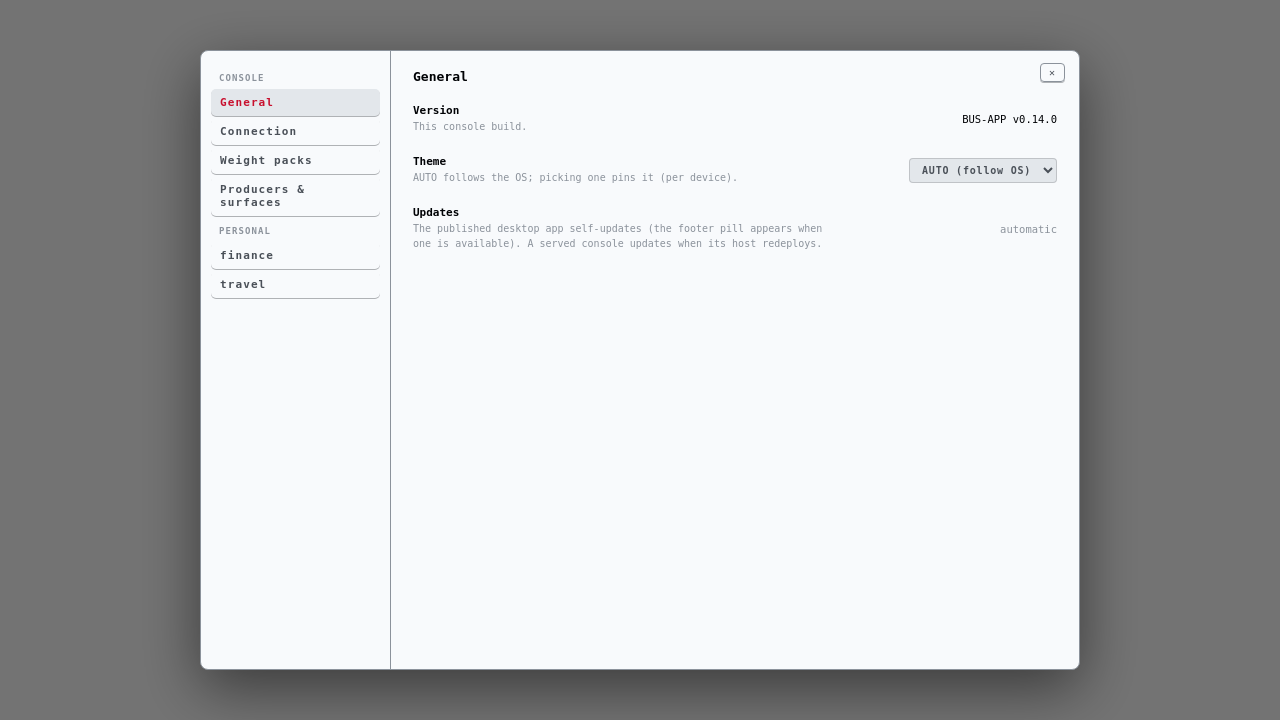
Scenario: Settings modal › Personal tabs render dynamically from the overlay yaml
Click the button "finance". click: click(296, 256)
box: x1=211 y1=242 x2=380 y2=269
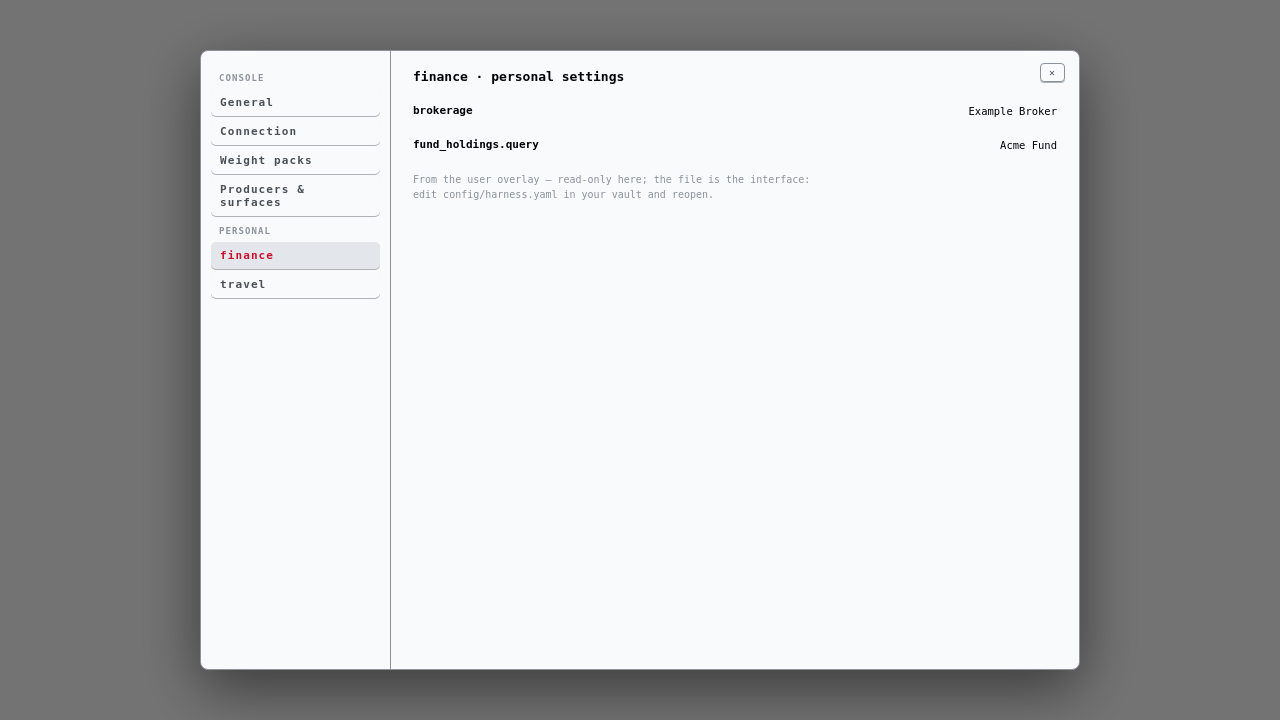
Now the text "brokerage" is shown, box x1=413 y1=104 x2=473 y2=117
Now the text "Example Broker" is shown, box x1=968 y1=104 x2=1057 y2=116
Now the text "fund_holdings.query" is shown, box x1=413 y1=138 x2=539 y2=151
Click the button "travel". click: click(296, 284)
box: x1=211 y1=271 x2=380 y2=298
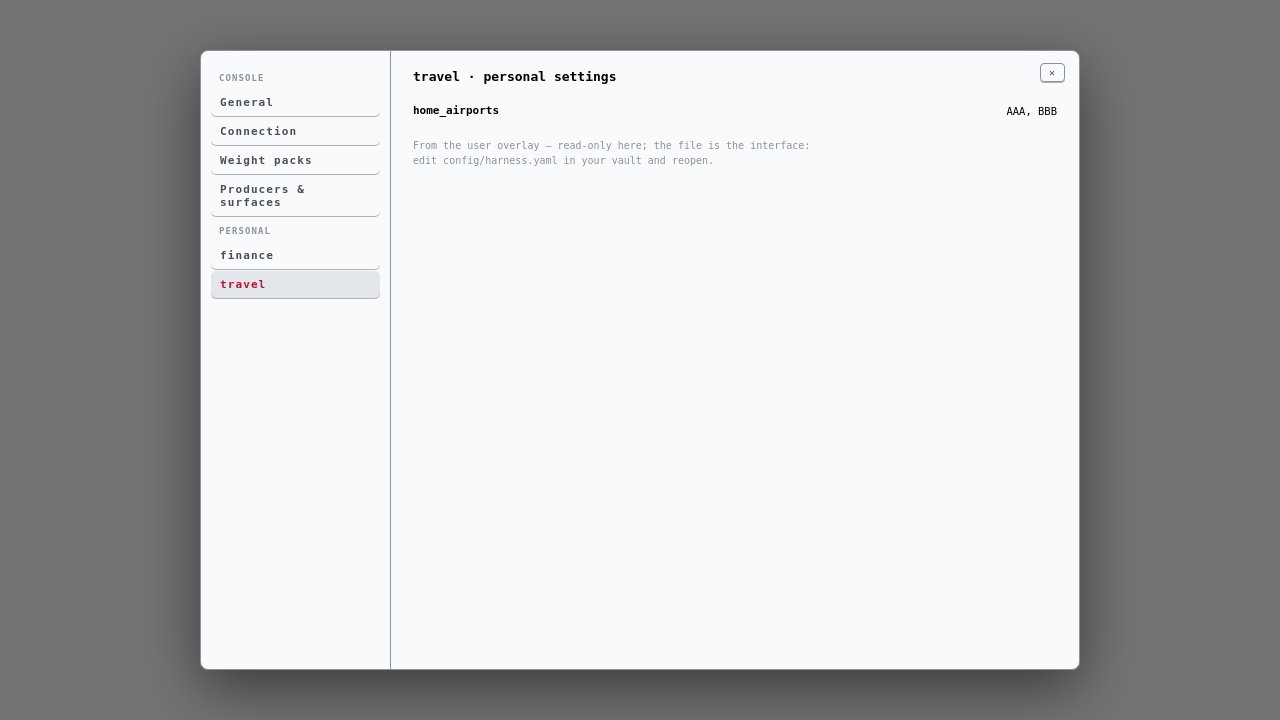
Now the text "home_airports" is shown, box x1=413 y1=104 x2=499 y2=117
Now the text "AAA, BBB" is shown, box x1=1006 y1=104 x2=1057 y2=116
